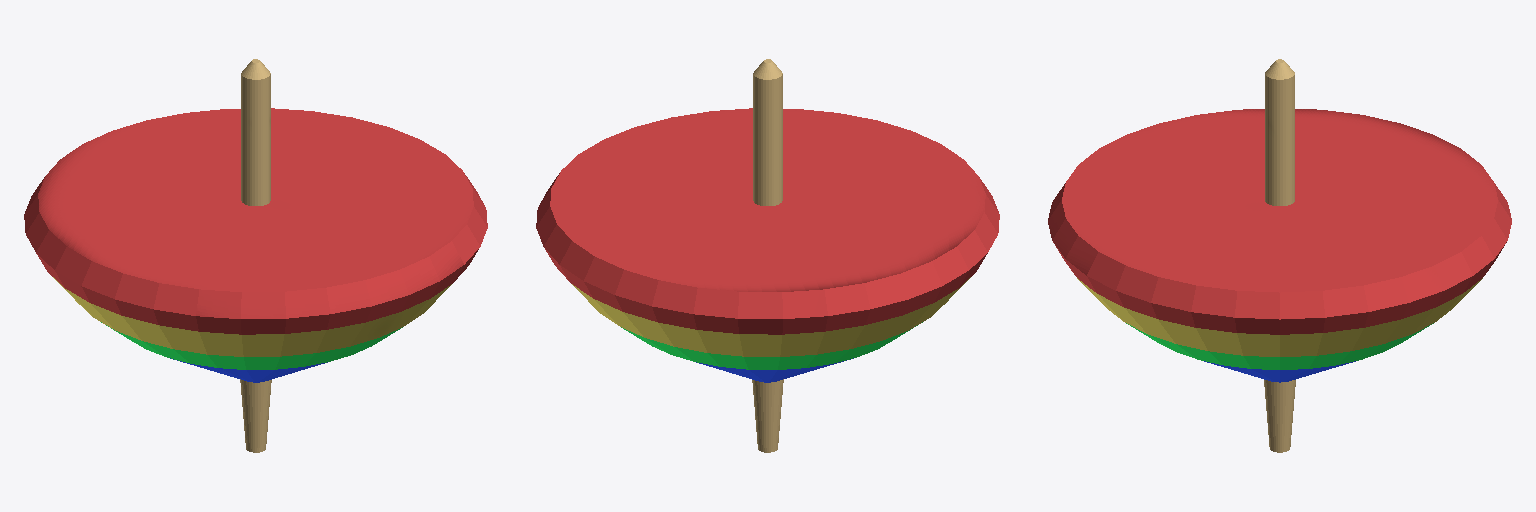
The picture shows the model from 3 angles: view 1: azimuth 30°, elevation 25°; view 2: azimuth 150°, elevation 25°; view 3: azimuth 270°, elevation 25°; orthographic projection.
Visible parts, largest first — view 1: 球; view 2: 球; view 3: 球.
Part boxes in pixels (x1,y1,x2,y2): 球: (24,59,487,452); 球: (536,59,999,452); 球: (1048,59,1511,452).
Size of the model in its own units: 1.8 by 1.67 by 1.8.
Materials: 1 (1 with a texture image).